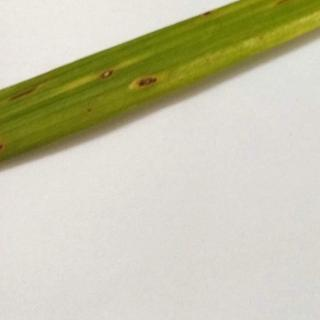Blast: (133, 70, 161, 94), (96, 64, 119, 83)
